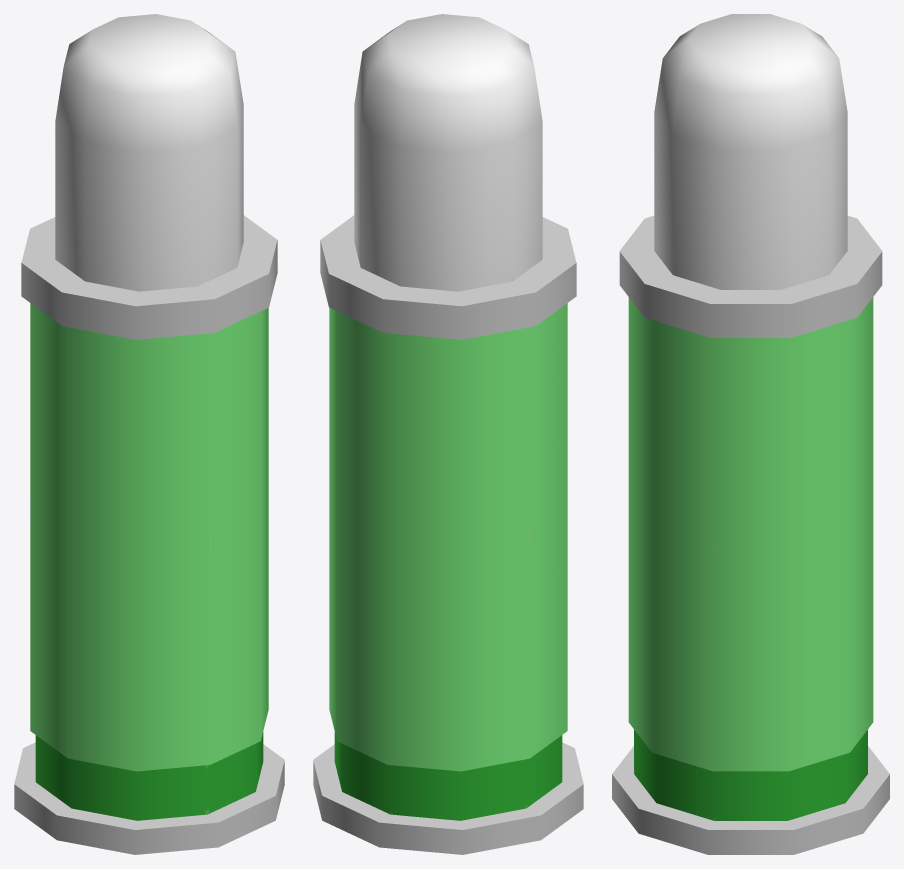
File: LipstickGlue.fbx
The picture shows the model from 3 angles, left to right: view 1: azimuth 30°, elevation 25°; view 2: azimuth 150°, elevation 25°; view 3: azimuth 270°, elevation 25°; orthographic projection.
Parts seen in each view (by area): view 1: 柱体; view 2: 柱体; view 3: 柱体.
Part boxes in pixels (x1,y1,x2,y2): 柱体: (14, 14, 284, 854); 柱体: (313, 14, 583, 854); 柱体: (612, 14, 889, 854).
Bounding box in the file's own units: 5.75 × 18.24 × 6.04.
1 material, 1 textured.
